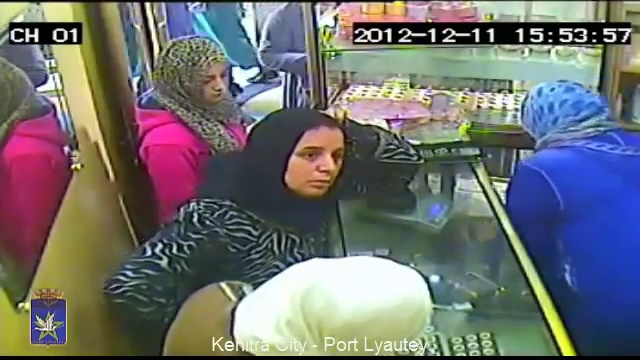face: (285, 135, 347, 193), (195, 63, 228, 104)
